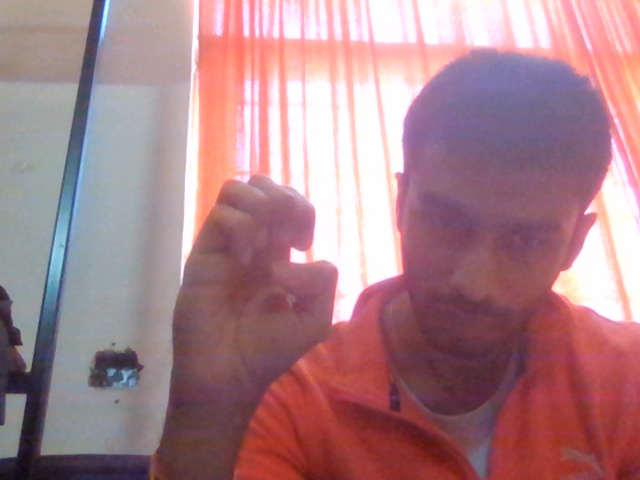E: (142, 157, 352, 450)
